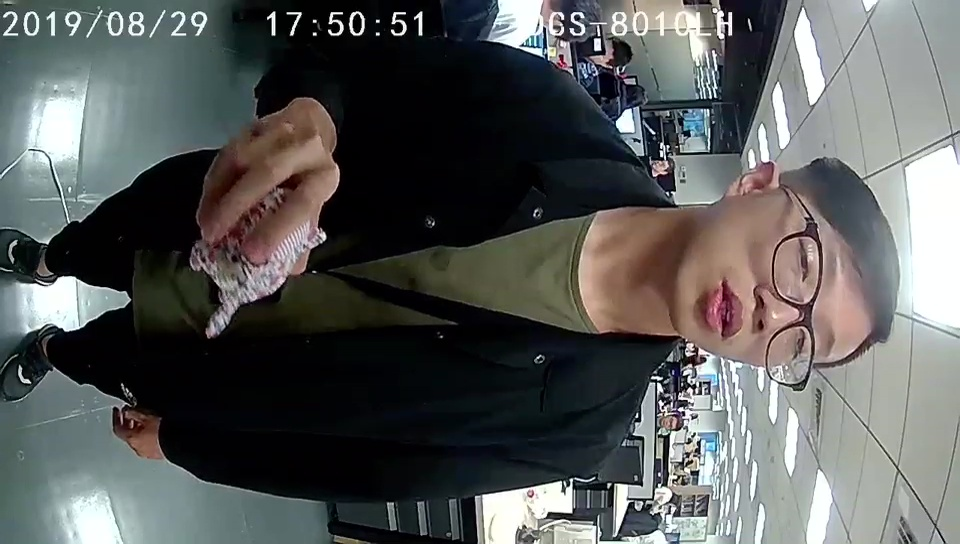pig: (186, 183, 327, 305)
